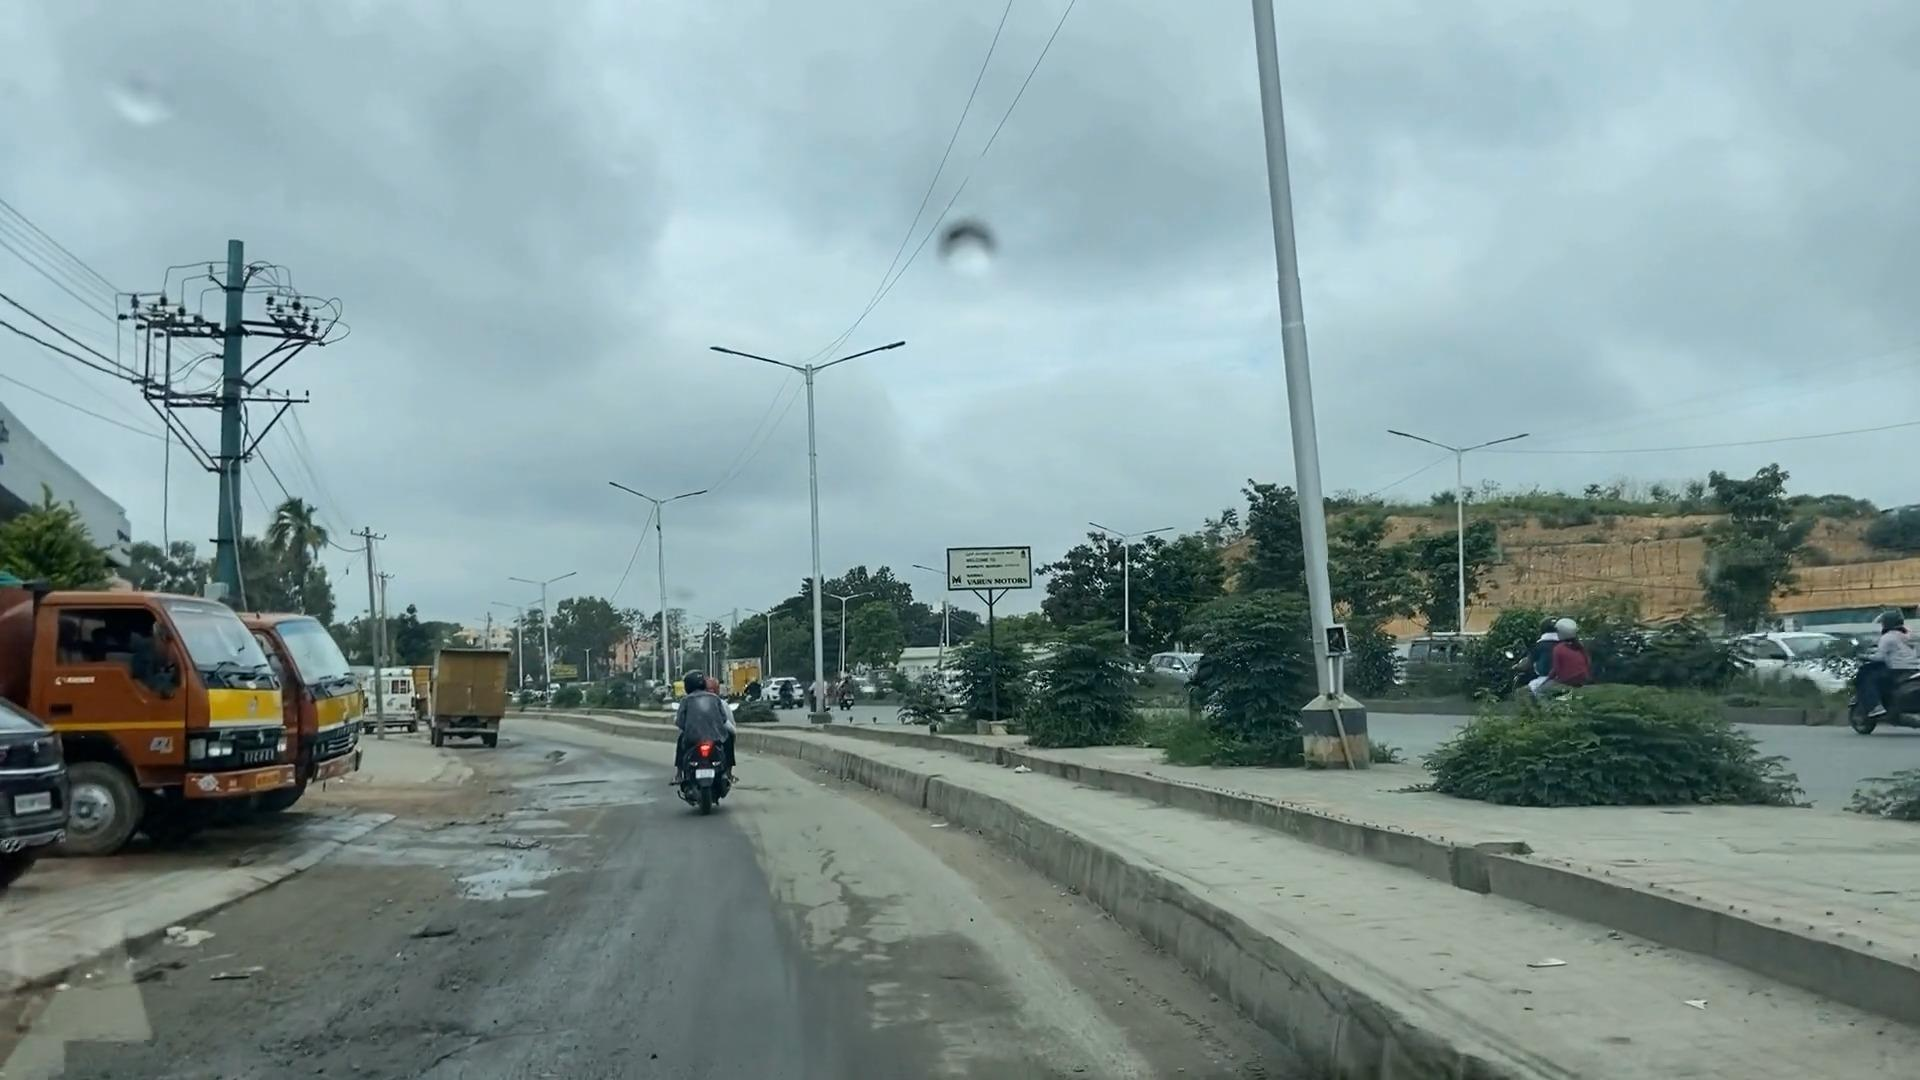LMV: (670, 663, 745, 815)
RoadDamages: (260, 997, 546, 1080)
